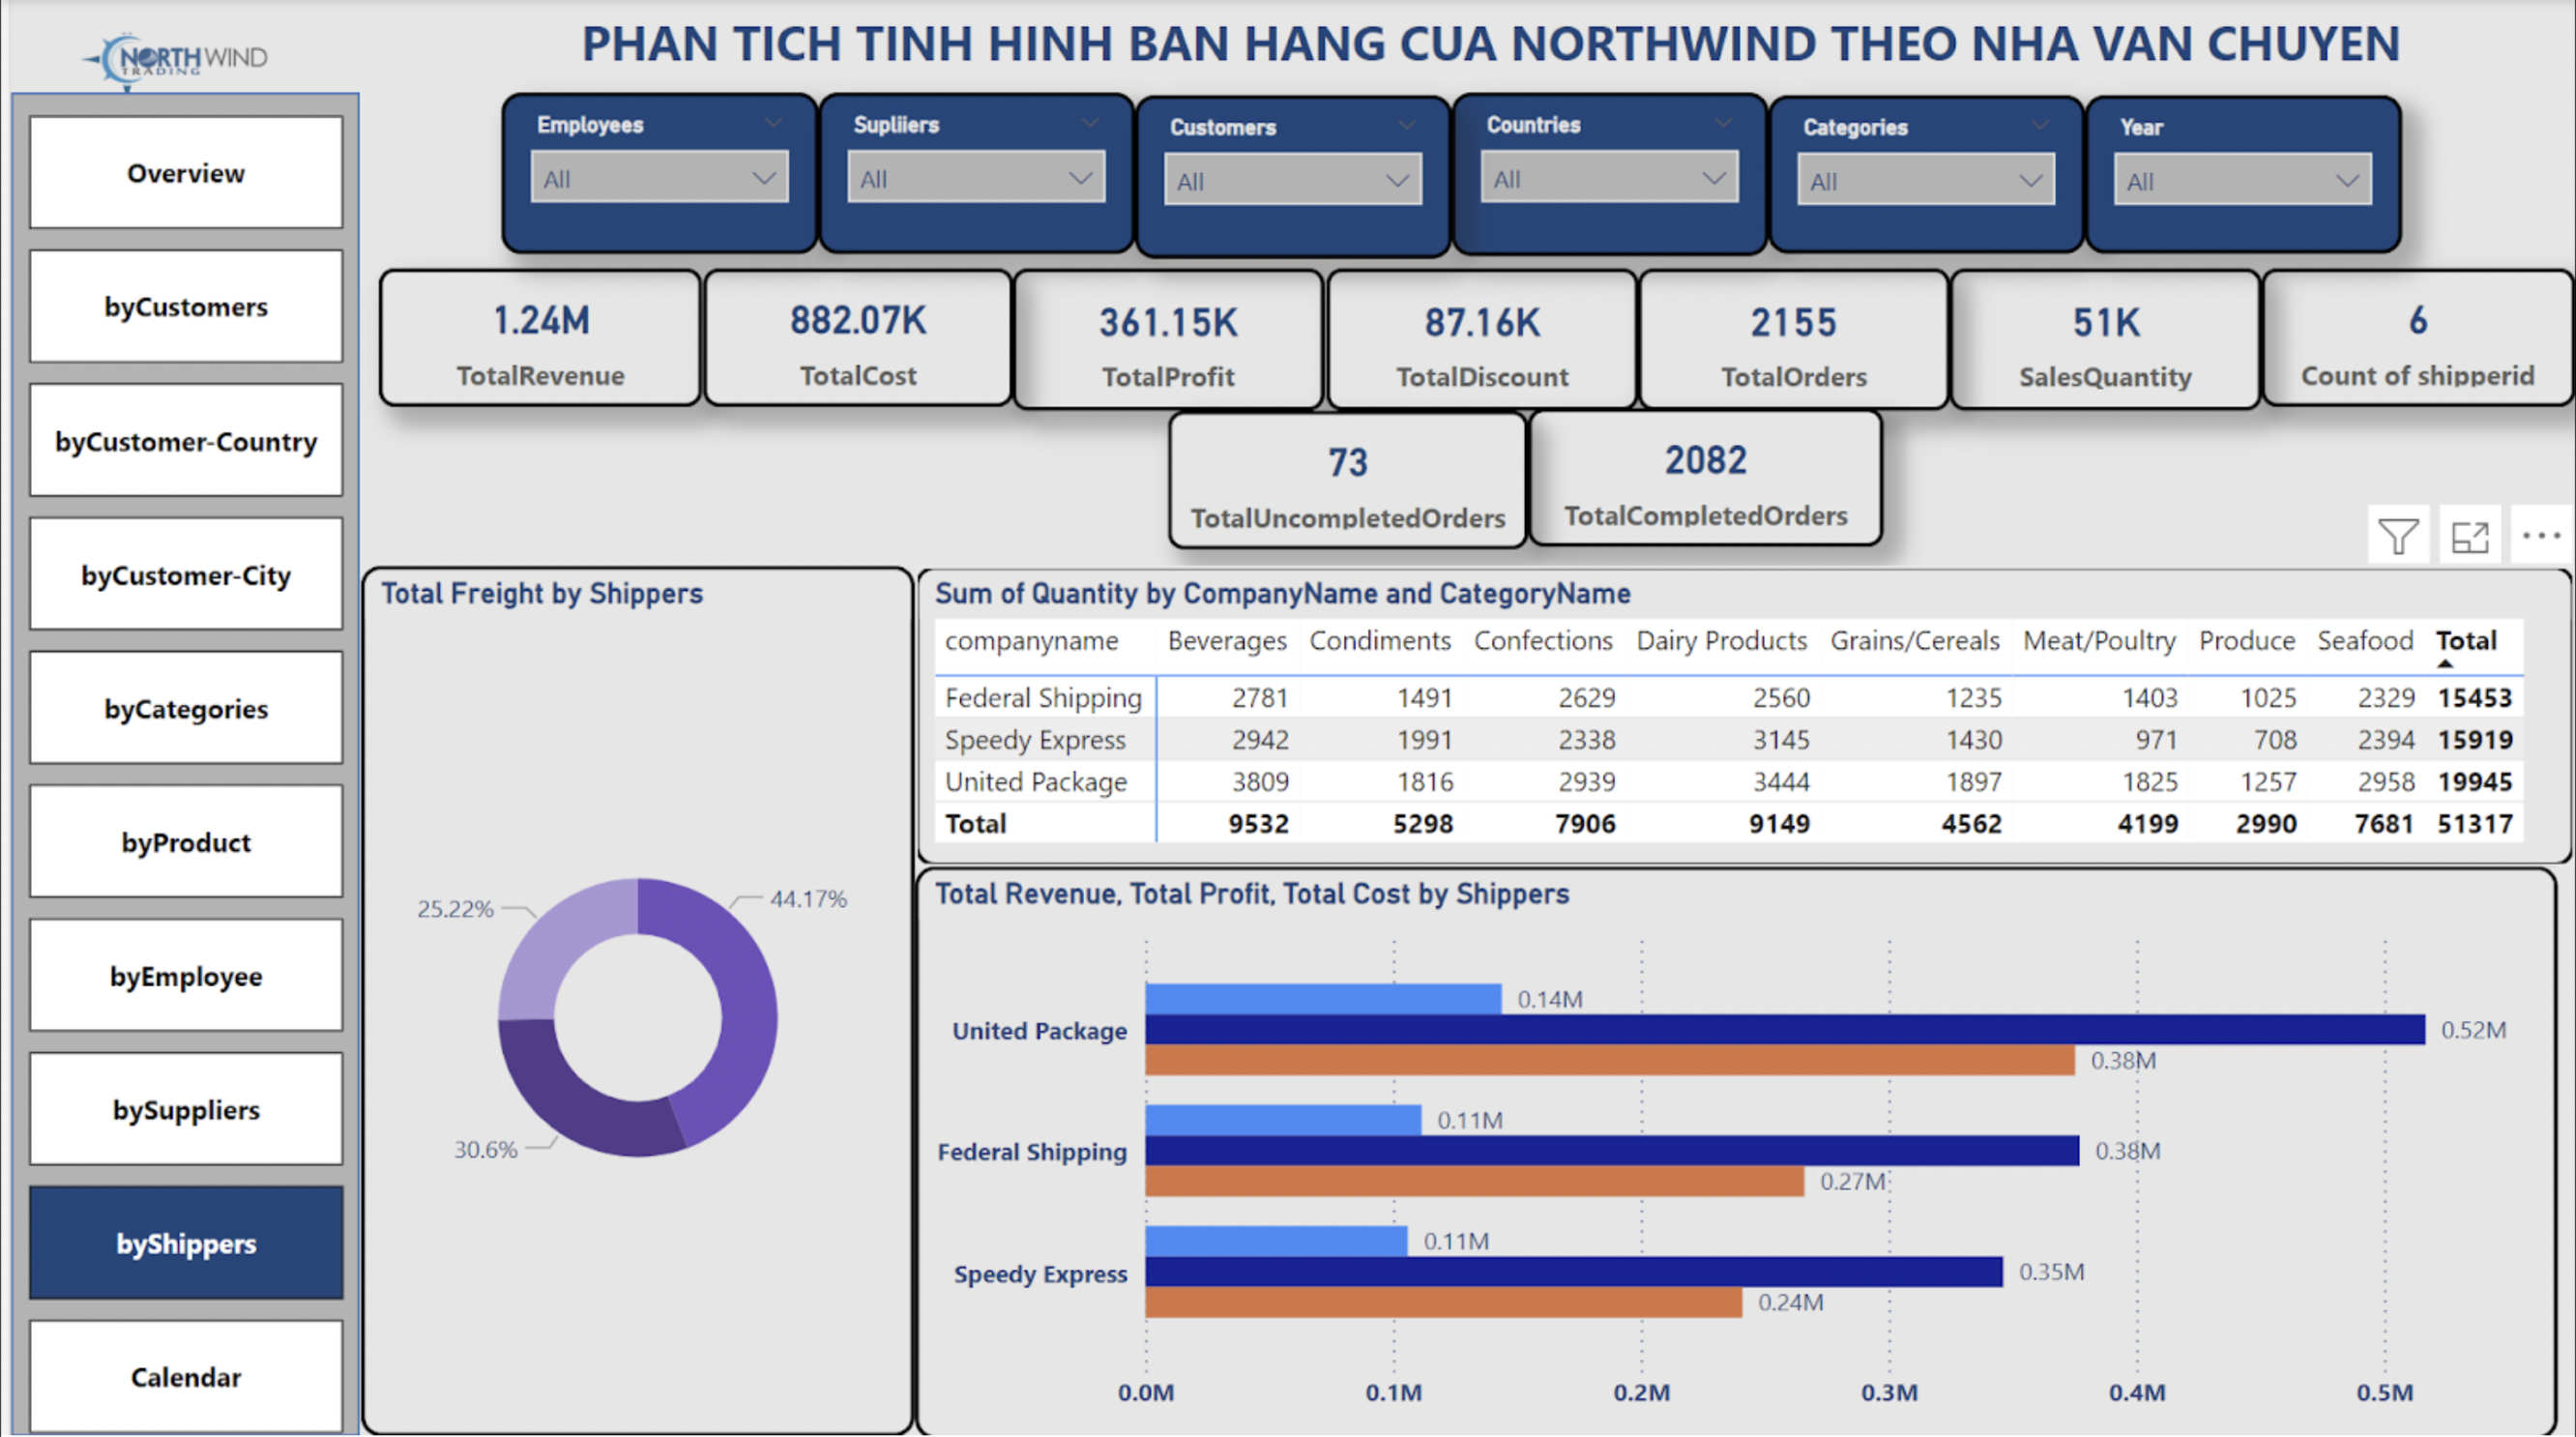

This screenshot's page, from the dashboard's own definition file:
{"tool":"powerbi","page":{"name":"byShippers","canvas":[1280,720],"ordinal":8},"visuals":[{"type":"card","fields":{"Values":["FactOrders.TotalRevenue"]},"box":[183.3,135.5,161.7,69.5],"z":0},{"type":"card","fields":{"Values":["FactOrders.TotalProfit"]},"box":[499.9,135.5,156,71.7],"z":1000},{"type":"card","fields":{"Values":["Sum(FactOrders.TotalCost)"]},"box":[345.1,135.5,154.9,69.5],"z":2000},{"type":"card","fields":{"Values":["FactOrders.TotalDiscount"]},"box":[655.9,135.5,156,71.7],"z":3000},{"type":"card","fields":{"Values":["CountNonNull(shippers.shipperid)"]},"box":[1122.8,135.5,157.2,69.5],"z":4000},{"type":"card","fields":{"Values":["Sum(FactOrders.Quantity)"]},"box":[968,135.5,156,71.7],"z":5000},{"type":"clusteredBarChart","title":"Total Revenue, Total Profit, Total Cost by Shippers","fields":{"Category":["shippers.companyname"],"Y":["Sum(FactOrders.Profit)","Sum(FactOrders.Revenue)","Sum(FactOrders.TotalCost)"]},"box":[451.3,434.7,819.8,286.9],"z":6000},{"type":"textbox","box":[206.1,0,1064.8,47.8],"z":7000},{"type":"card","fields":{"Values":["CountNonNull(FactOrders.OrderID)"]},"box":[812,135.5,156,71.7],"z":8000},{"type":"image","box":[10,10,157.2,47.8],"z":9000},{"type":"shape","box":[0,46.7,174.2,673],"z":10000},{"type":"pageNavigator","box":[9.1,59.2,157.2,660.5],"z":11000},{"type":"slicer","title":"Total Profit by Employees","fields":{"Values":["employees.fullname"]},"box":[244.3,47.3,158.3,80.9],"z":12000},{"type":"slicer","title":"Total Profit by Employees","fields":{"Values":["suppliers.companyname"]},"box":[402.6,47.3,158.3,80.9],"z":13000},{"type":"slicer","title":"Total Profit by Employees","fields":{"Values":["customers.contactname"]},"box":[719.1,47.3,158.3,82],"z":14000},{"type":"slicer","title":"Total Profit by Employees","fields":{"Values":["categories.categoryname"]},"box":[877.4,48.4,158.3,79.7],"z":15000},{"type":"slicer","title":"Total Profit by Employees","fields":{"Values":["shippers.companyname"]},"box":[1035.7,48.4,158.3,79.7],"z":16000},{"type":"donutChart","title":"Total Freight by Shippers","fields":{"Category":["shippers.companyname"],"Y":["Sum(FactOrders.Freight)"]},"box":[174.7,284.3,276.7,436],"z":17000},{"type":"slicer","title":"Total Profit by Employees","fields":{"Values":["customers.contactname"]},"box":[561.4,47.8,158.3,82],"z":18000},{"type":"card","fields":{"Values":["FactOrders.TotalCompletedOrders"]},"box":[757.3,205,177.7,69.5],"z":19000},{"type":"card","fields":{"Values":["FactOrders.TotalUncompletedOrders"]},"box":[577.9,206.1,179.9,69.5],"z":20000},{"type":"pivotTable","title":"Sum of Quantity by CompanyName and CategoryName","fields":{"Rows":["shippers.companyname"],"Columns":["categories.categoryname"],"Values":["Sum(FactOrders.Quantity)"]},"box":[451.3,284.3,828.7,150.4],"z":21000}]}

Visuals, with their boxes in screenshot pixels (x1, y1, x2, y2), scaled from the page's 1280x720 canvas onto the 2576x1437 screenshot:
card - FactOrders.TotalRevenue: detection(368, 271, 694, 409)
card - FactOrders.TotalProfit: detection(1006, 271, 1320, 414)
card - Sum(FactOrders.TotalCost): detection(694, 271, 1007, 409)
card - FactOrders.TotalDiscount: detection(1320, 271, 1634, 414)
card - CountNonNull(shippers.shipperid): detection(2260, 271, 2575, 409)
card - Sum(FactOrders.Quantity): detection(1948, 271, 2262, 414)
"Total Revenue, Total Profit, Total Cost by Shippers" clusteredBarChart: detection(908, 867, 2558, 1436)
textbox: detection(415, 0, 2558, 96)
card - CountNonNull(FactOrders.OrderID): detection(1634, 271, 1948, 414)
image: detection(20, 20, 337, 115)
shape: detection(0, 93, 351, 1436)
pageNavigator: detection(18, 118, 335, 1436)
"Total Profit by Employees" slicer: detection(491, 95, 810, 256)
"Total Profit by Employees" slicer: detection(810, 95, 1128, 256)
"Total Profit by Employees" slicer: detection(1448, 95, 1766, 258)
"Total Profit by Employees" slicer: detection(1766, 97, 2085, 255)
"Total Profit by Employees" slicer: detection(2085, 97, 2403, 255)
"Total Freight by Shippers" donutChart: detection(352, 568, 908, 1436)
"Total Profit by Employees" slicer: detection(1129, 96, 1449, 259)
card - FactOrders.TotalCompletedOrders: detection(1524, 409, 1882, 548)
card - FactOrders.TotalUncompletedOrders: detection(1163, 411, 1525, 550)
"Sum of Quantity by CompanyName and CategoryName" pivotTable: detection(908, 568, 2575, 867)
